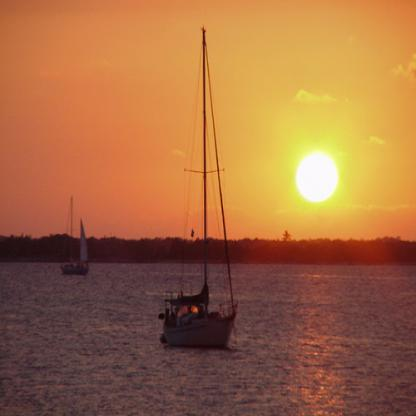boat: (157, 26, 239, 350), (58, 194, 89, 275)
